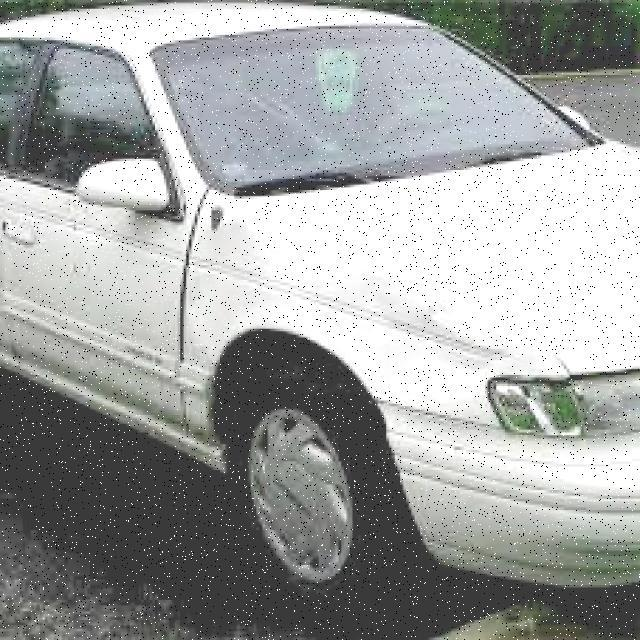car damage: (173, 206, 508, 382)
